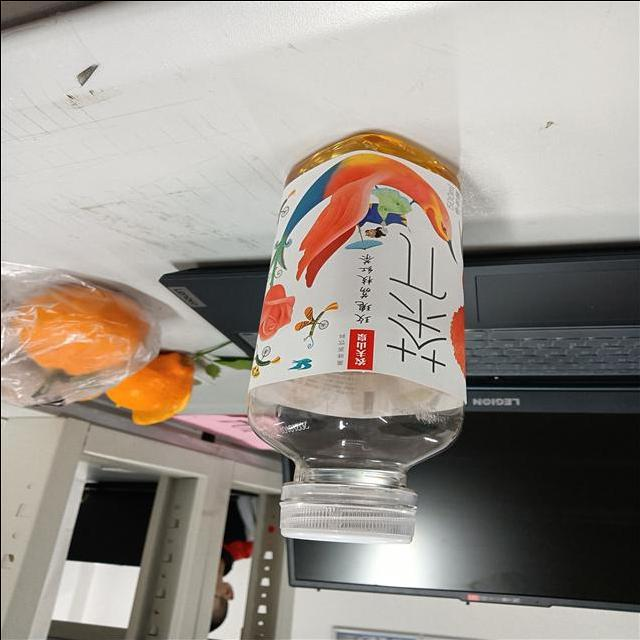orange peel: (101, 351, 195, 426)
